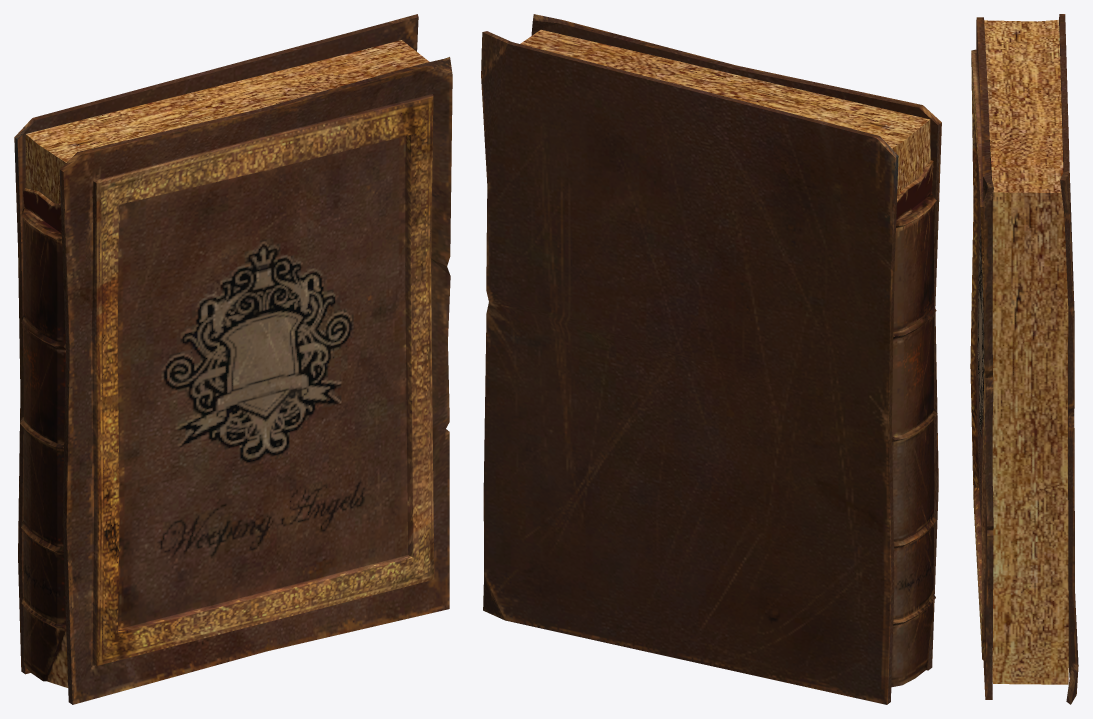
File: books.fbx
3 renders of one model, left to right at view 1: azimuth 30°, elevation 25°; view 2: azimuth 150°, elevation 25°; view 3: azimuth 270°, elevation 25°, orthographic. The views are drawn at different scales.
Visible parts, largest first — view 1: Book; view 2: Book; view 3: Book.
Part boxes in pixels (left/top/right/bottom): Book: left=14, top=14, right=452, bottom=704; Book: left=481, top=14, right=941, bottom=704; Book: left=970, top=14, right=1078, bottom=704.
Size of the model in its own units: 1.36 by 1.79 by 0.3323.
1 material, 1 textured.
